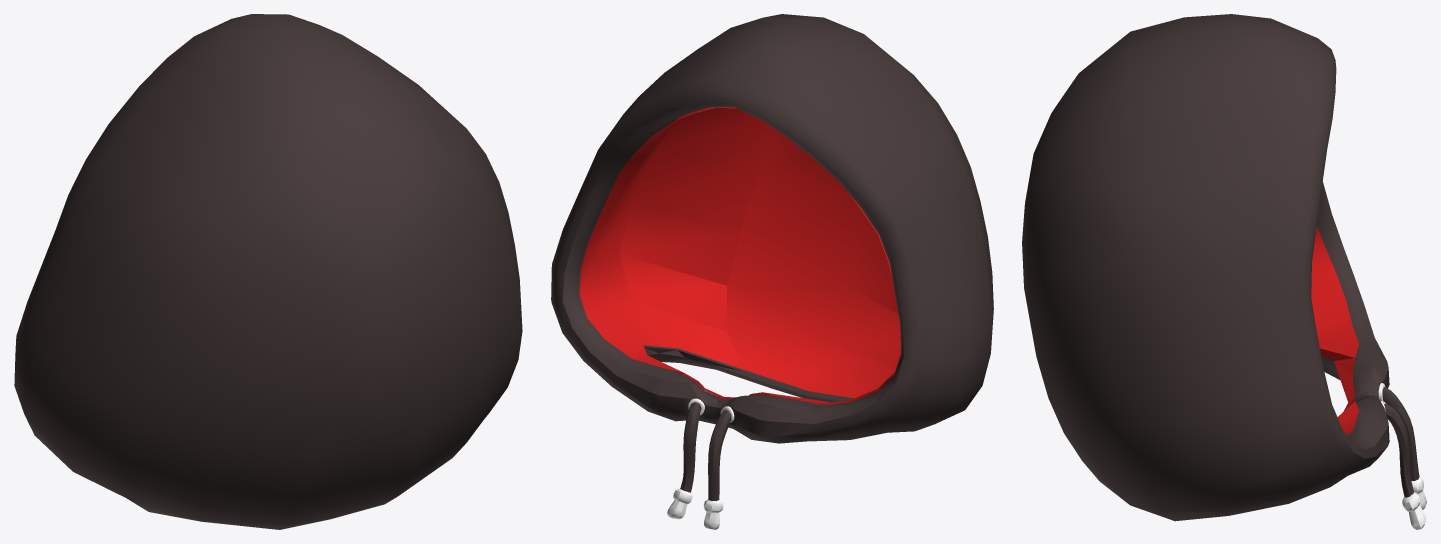
Rendered from hoodie.glb.
The picture shows the model from 3 angles, left to right: view 1: azimuth 30°, elevation 25°; view 2: azimuth 150°, elevation 25°; view 3: azimuth 270°, elevation 25°; orthographic projection. The views are drawn at different scales.
Parts seen in each view (by area): view 1: Object_2; view 2: Object_2, Object_4, Object_3; view 3: Object_2, Object_4, Object_3.
Part boxes in pixels (x1,y1,x2,y2): Object_2: (14, 14, 522, 529); Object_2: (551, 14, 993, 501); Object_4: (579, 107, 900, 404); Object_3: (667, 398, 734, 529); Object_2: (1022, 14, 1419, 521); Object_4: (1311, 226, 1359, 434); Object_3: (1378, 383, 1426, 529).
Size of the model in its own units: 1.73 by 1.75 by 1.3.
